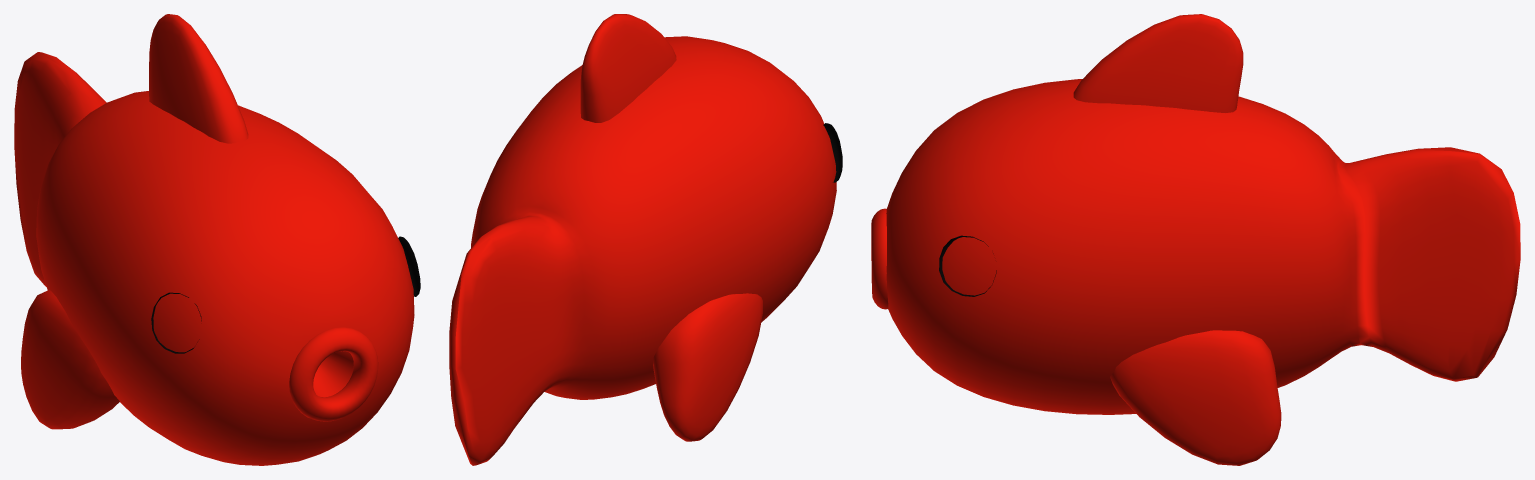
Rendered from fishunlap.fbx.
3 views of the same model, side by side, from view 1: azimuth 30°, elevation 25°; view 2: azimuth 150°, elevation 25°; view 3: azimuth 270°, elevation 25° (orthographic). The views are drawn at different scales.
Parts seen in each view (by area): view 1: Fish; view 2: Fish; view 3: Fish.
Part boxes in pixels (x1=…): Fish: x1=14, y1=14, x2=420, y2=465; Fish: x1=449, y1=14, x2=842, y2=465; Fish: x1=871, y1=14, x2=1520, y2=465.
Size of the model in its own units: 32.5 by 45.22 by 67.27.
